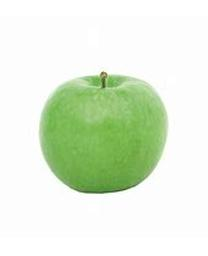apple: (38, 70, 168, 192)
